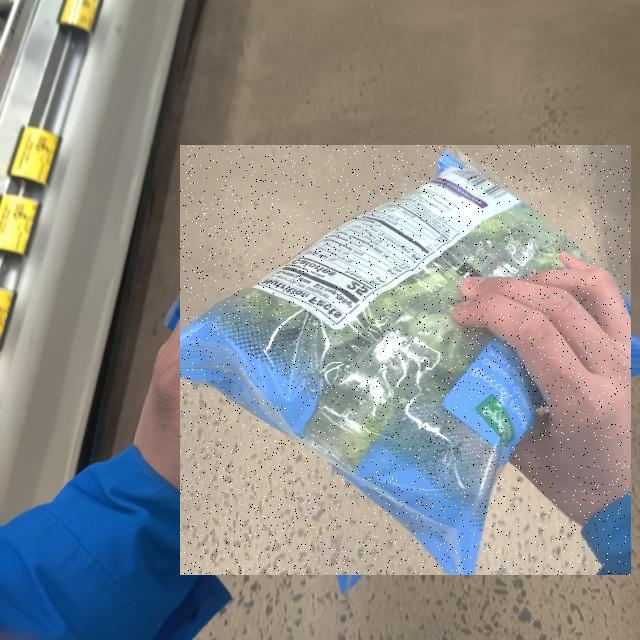Broccoli: (180, 145, 631, 575)
